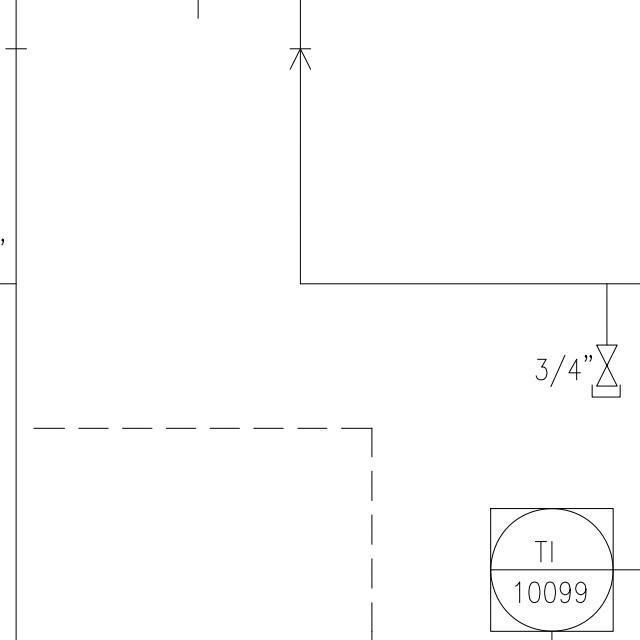EC: (587, 316, 625, 403)
GV: (596, 340, 619, 389)
